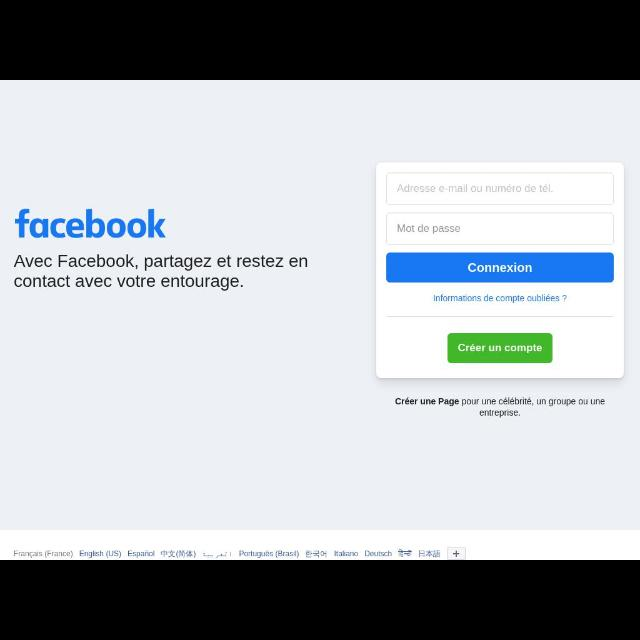button: (448, 548, 464, 558)
icon: (452, 550, 460, 558)
input: (387, 172, 613, 204), (388, 214, 614, 246)
text: (15, 253, 308, 295), (15, 208, 166, 240), (396, 398, 606, 418), (396, 185, 554, 195), (432, 294, 568, 304), (458, 342, 542, 353), (395, 225, 463, 235), (468, 264, 532, 274), (12, 549, 74, 559), (238, 550, 300, 558), (80, 550, 122, 558), (161, 550, 197, 558), (202, 549, 228, 559), (362, 550, 393, 558), (126, 550, 156, 558), (333, 550, 359, 558), (305, 550, 327, 558), (418, 550, 440, 558), (398, 549, 412, 557)
textbutton: (387, 252, 615, 282), (448, 333, 552, 362)
